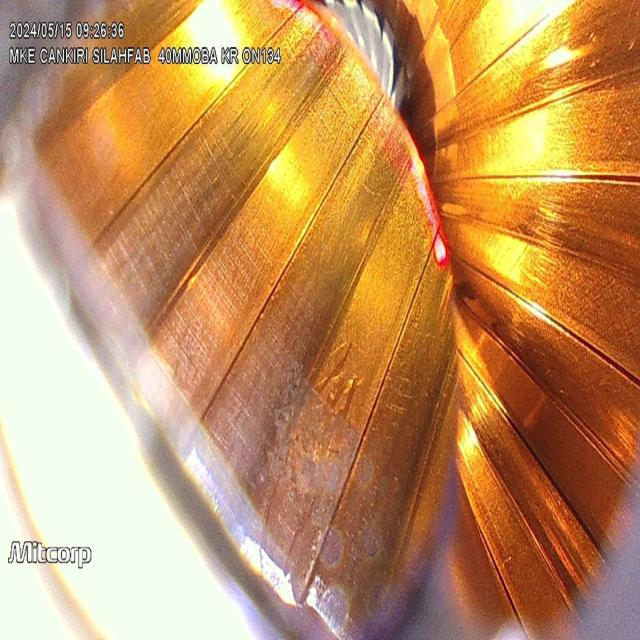hata_8.2: (251, 344, 383, 568)
